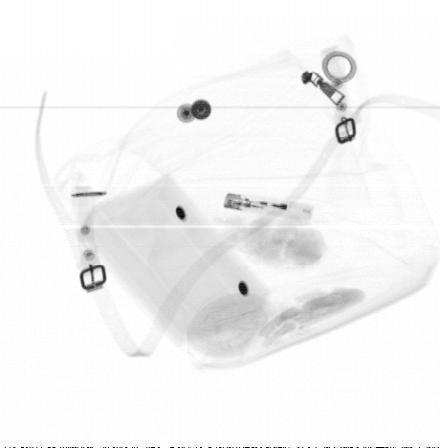Lighter: (222, 192, 314, 222)
